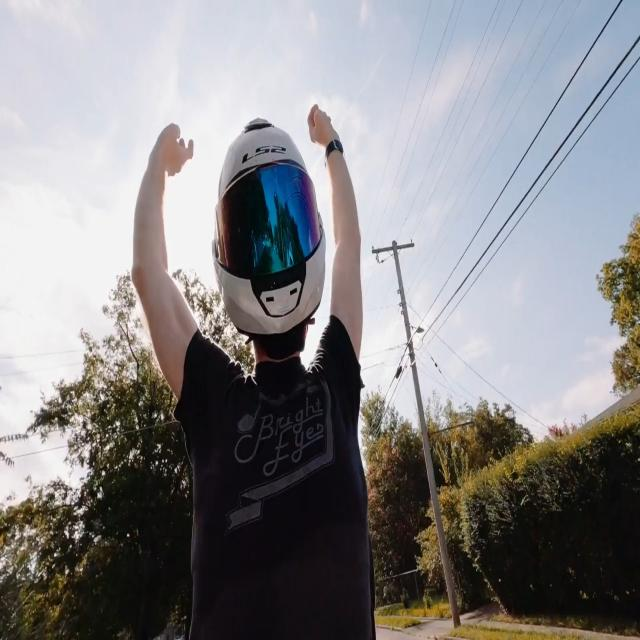Helmet_Wearer: (208, 101, 328, 355)
Person: (136, 96, 367, 640)
